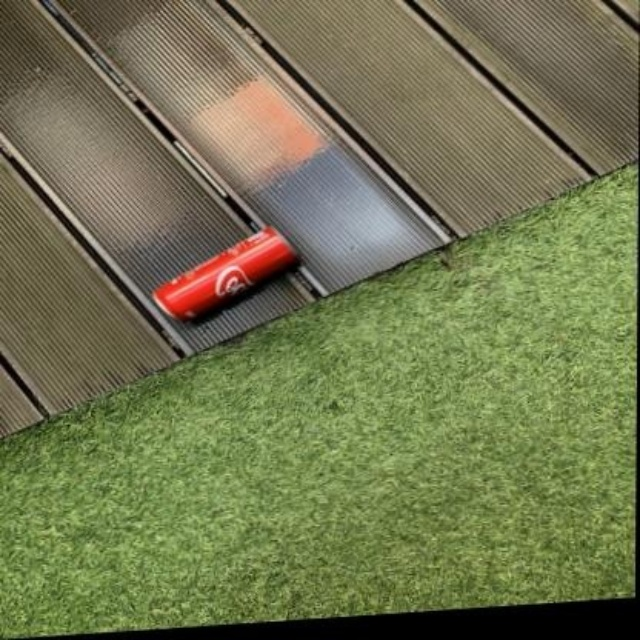trash: (152, 226, 295, 318)
